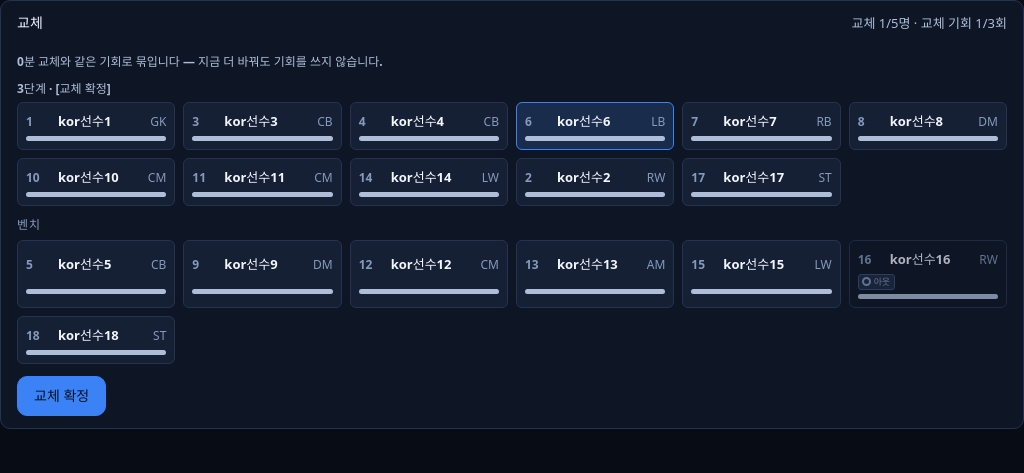
Test case: 교체 탭 — 교체 아웃 선수 › 제어 모드로 강제 선택해도 [교체 확정]이 규정 사유로 거부한다
Click the button "교체 확정" at (62, 396), box [17, 376, 106, 416]
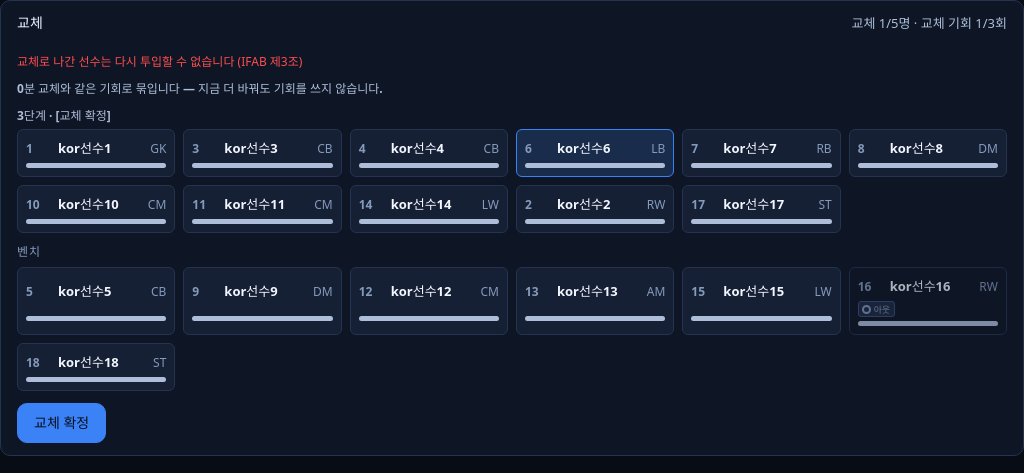
Expected: the message with class "cs-error" shows "IFAB 제3조", [17, 53, 302, 70]
